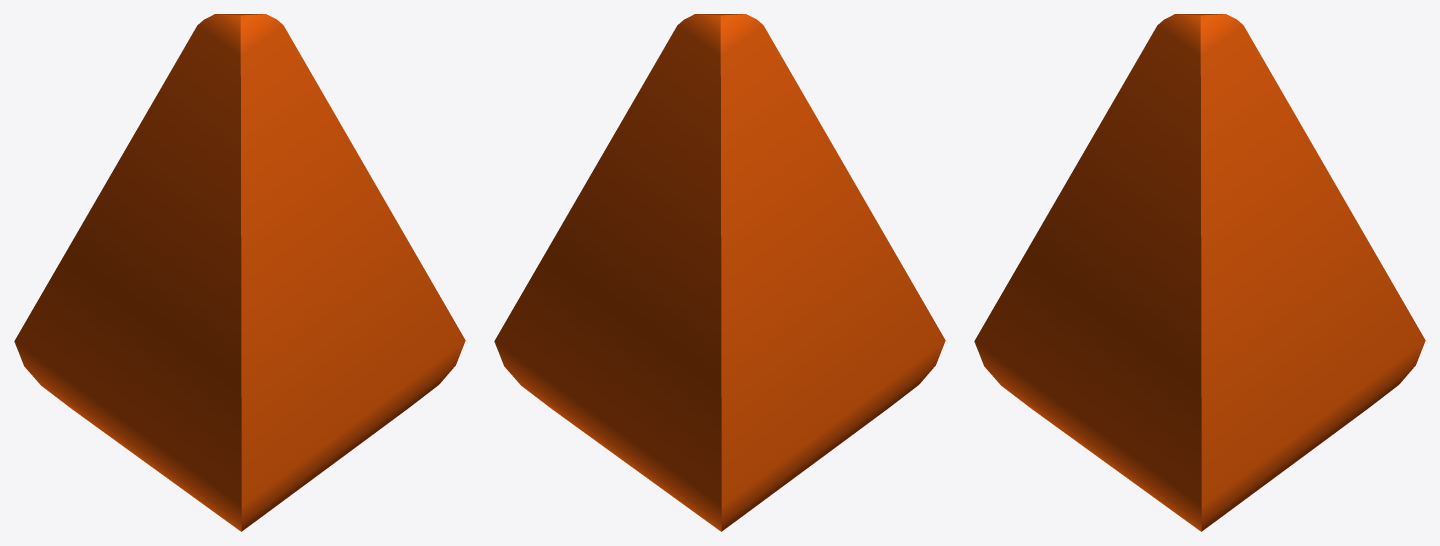
The model's file is obj_resource_lemonium.fbx.
The picture shows the model from 3 angles, left to right: view 1: azimuth 30°, elevation 25°; view 2: azimuth 150°, elevation 25°; view 3: azimuth 270°, elevation 25°; orthographic projection.
Visible parts, largest first — view 1: shell.016; view 2: shell.016; view 3: shell.016.
Part boxes in pixels (x1,y1,x2,y2): shell.016: [14, 14, 465, 531]; shell.016: [494, 14, 945, 531]; shell.016: [974, 14, 1425, 531].
Size of the model in its own units: 1.68 by 2.1 by 1.94.
